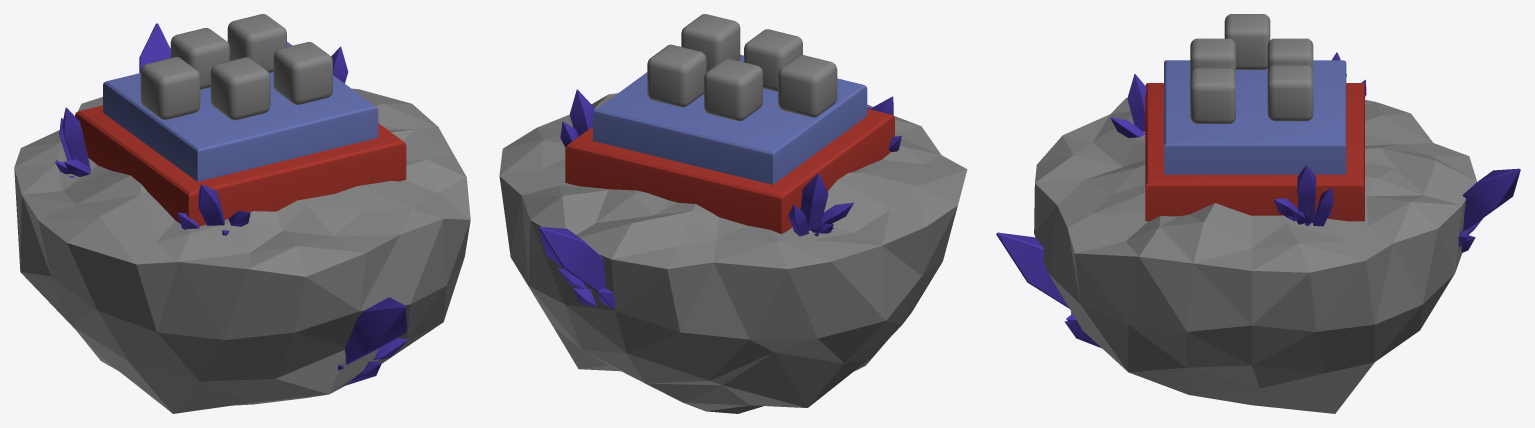
The model's file is Level3_model1.FBX.
3 views of the same model, side by side, from view 1: azimuth 30°, elevation 25°; view 2: azimuth 150°, elevation 25°; view 3: azimuth 270°, elevation 25° (orthographic). The views are drawn at different scales.
Parts seen in each view (by area): view 1: GeoSphere001, Box054, Box001, ChamferBox003, ChamferBox005, ChamferBox004, Box050, ChamferBox001, ChamferBox002, Box035, Box027, Box043; view 2: GeoSphere001, Box054, Box001, ChamferBox005, ChamferBox002, ChamferBox001, Box043, ChamferBox004, ChamferBox003, Box035, Box018, Box040 (+1 smaller); view 3: GeoSphere001, Box054, Box001, ChamferBox001, ChamferBox004, ChamferBox005, Box043, Box050, ChamferBox003, ChamferBox002, Box018, Box027 (+1 smaller).
Part boxes in pixels (x1,y1,x2,y2): GeoSphere001: [14, 88, 470, 413]; Box054: [103, 41, 378, 181]; Box001: [75, 105, 406, 228]; ChamferBox003: [210, 57, 270, 120]; ChamferBox005: [140, 57, 200, 119]; ChamferBox004: [273, 42, 332, 104]; Box050: [345, 297, 407, 364]; ChamferBox001: [227, 14, 286, 72]; ChamferBox002: [170, 28, 229, 89]; Box035: [61, 107, 90, 167]; Box027: [198, 184, 224, 225]; Box043: [139, 23, 170, 72]; GeoSphere001: [499, 93, 967, 413]; Box054: [593, 55, 867, 184]; Box001: [565, 109, 894, 234]; ChamferBox005: [778, 55, 837, 117]; ChamferBox002: [704, 58, 762, 121]; ChamferBox001: [647, 44, 706, 107]; Box043: [539, 227, 606, 291]; ChamferBox004: [681, 14, 740, 71]; ChamferBox003: [744, 29, 802, 91]; Box035: [800, 173, 828, 230]; Box018: [569, 89, 594, 136]; Box040: [821, 202, 853, 224]; GeoSphere001: [1034, 98, 1476, 413]; Box054: [1164, 60, 1346, 174]; Box001: [1145, 83, 1364, 221]; ChamferBox001: [1267, 65, 1313, 121]; ChamferBox004: [1190, 68, 1235, 123]; ChamferBox005: [1224, 14, 1270, 69]; Box043: [1462, 168, 1520, 231]; Box050: [996, 232, 1069, 308]; ChamferBox003: [1190, 38, 1235, 74]; ChamferBox002: [1267, 38, 1313, 71]; Box018: [1297, 165, 1316, 222]; Box027: [1127, 74, 1146, 131].
Size of the model in its own units: 441 by 375 by 518.
